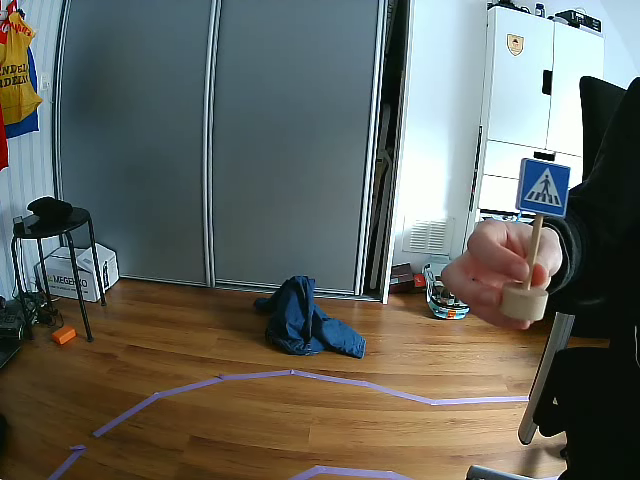zebrapad: (514, 158, 572, 215)
